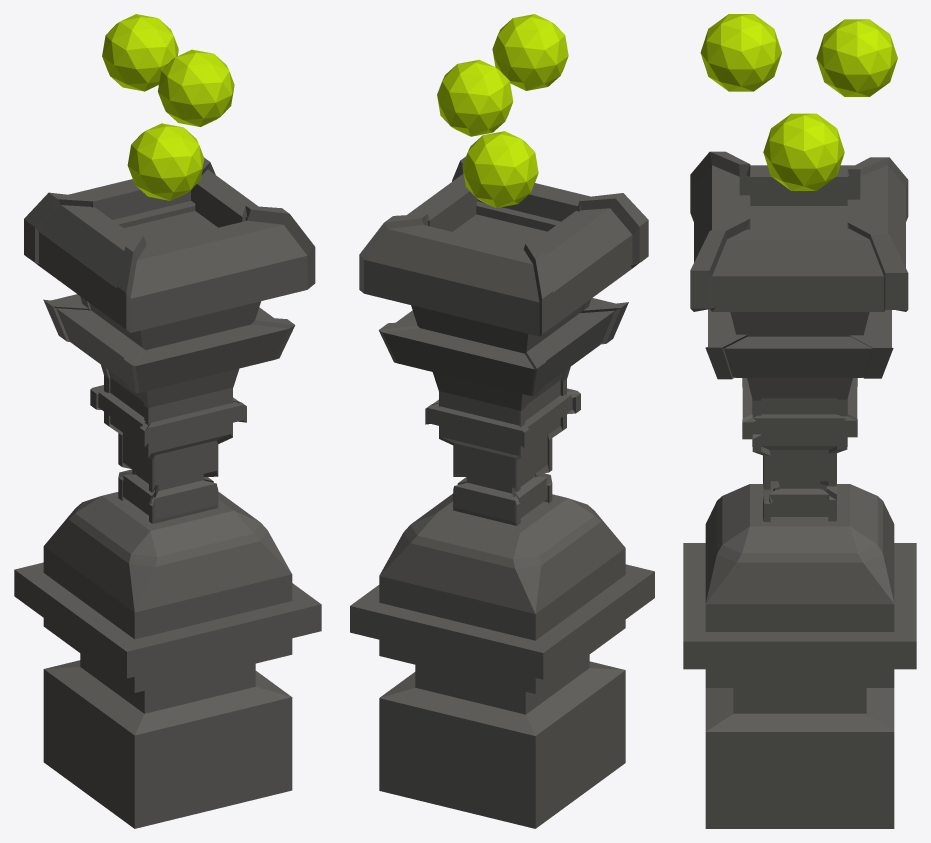
File: Gluetrap2.fbx
3 renders of one model, left to right at view 1: azimuth 30°, elevation 25°; view 2: azimuth 150°, elevation 25°; view 3: azimuth 270°, elevation 25°, orthographic. The views are drawn at different scales.
Visible parts, largest first — view 1: Cube.001; view 2: Cube.001; view 3: Cube.001.
Boxes of the visible parts, x1=… form: Cube.001: x1=14, y1=14, x2=321, y2=828; Cube.001: x1=350, y1=14, x2=654, y2=828; Cube.001: x1=683, y1=14, x2=916, y2=828.
Size of the model in its own units: 631 by 2304 by 631.
